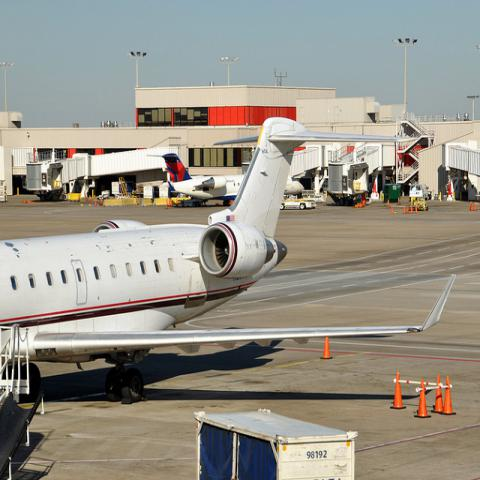truck: (280, 200, 312, 210)
